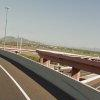Bridge: (8, 39, 91, 95)
